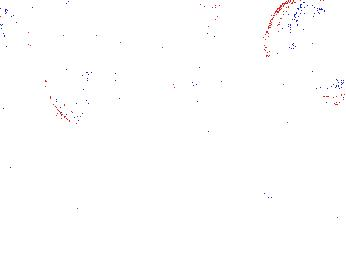moon jellyfish: (264, 1, 346, 107), (44, 47, 121, 128), (25, 1, 138, 52), (116, 3, 219, 46), (166, 16, 220, 95)
